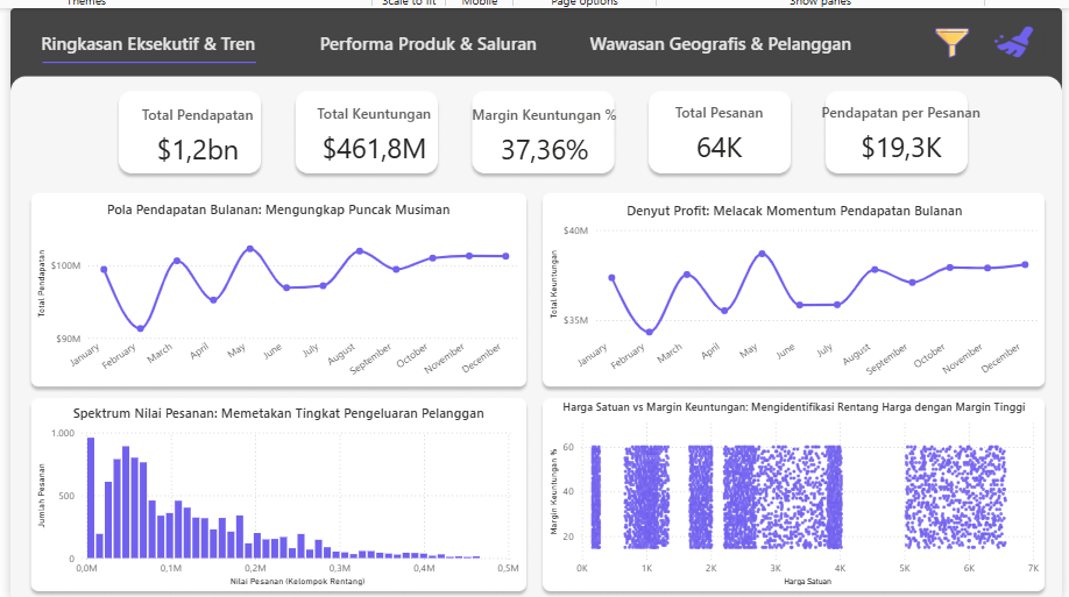

The page's visual inventory and layout, read from the dashboard file:
{"tool":"powerbi","page":{"name":"Ringkasan Esekutif & Tren","canvas":[1280,720],"ordinal":0},"visuals":[{"type":"cardVisual","fields":{"Data":["Measures_.Total Revenue"]},"box":[141.4,101.4,172.9,104.3],"z":0},{"type":"cardVisual","fields":{"Data":["Measures_.Total Profit"]},"box":[350,100,185.7,104.3],"z":1000},{"type":"cardVisual","fields":{"Data":["Measures_.Profit Margin %"]},"box":[541.4,101.4,217.1,104.3],"z":2000},{"type":"cardVisual","fields":{"Data":["Measures_.Total Orders"]},"box":[787.2,100,152.6,103.8],"z":3000},{"type":"cardVisual","fields":{"Data":["Measures_.Revenue per order"]},"box":[953.9,100.6,260.8,102],"z":4000},{"type":"lineChart","title":"Pola Pendapatan Bulanan: Mengungkap Puncak Musiman","fields":{"Category":["Sales_data.order_month_name"],"Y":["Measures_.Total Revenue"]},"box":[26.9,233.3,598.7,235.9],"z":5000},{"type":"lineChart","title":"Denyut Profit: Melacak Momentum Pendapatan Bulanan","fields":{"Category":["Sales_data.order_month_name"],"Y":["Measures_.Total Profit"]},"box":[650,234.6,607.7,234.6],"z":6000},{"type":"scatterChart","title":"Harga Satuan vs Margin Keuntungan: Mengidentifikasi Rentang Harga dengan Margin Tinggi","fields":{"X":["Sales_data.unit_price"],"Y":["Sales_data.profit_margin_pct"]},"box":[650,476.9,606.4,232.1],"z":7000},{"type":"columnChart","title":"Spektrum Nilai Pesanan: Memetakan Tingkat Pengeluaran Pelanggan","fields":{"Category":["Order_Value_Distribution.OrderValue (bins)"],"Y":["CountNonNull(Order_Value_Distribution.order_number)"]},"box":[26.9,482.1,598.7,226.9],"z":8000},{"type":"actionButton","box":[337.2,14.1,342.3,55.1],"z":10000},{"type":"actionButton","box":[9,14.1,317.9,55.1],"z":11000},{"type":"actionButton","box":[693.8,13.8,342.5,55],"z":12000},{"type":"actionButton","box":[1188,14,70,55],"z":14000},{"type":"actionButton","box":[1120,21,53,42],"z":14500}]}

Visuals, with their boxes on the page's 1280x720 design canvas (x1, y1, x2, y2). These are canvas units, not pixel positions in the 1069x597 screenshot, which may show the page scaled, cropped or inside an application window:
cardVisual - Measures_.Total Revenue: l=141, t=101, r=314, b=206
cardVisual - Measures_.Total Profit: l=350, t=100, r=536, b=204
cardVisual - Measures_.Profit Margin %: l=541, t=101, r=758, b=206
cardVisual - Measures_.Total Orders: l=787, t=100, r=940, b=204
cardVisual - Measures_.Revenue per order: l=954, t=101, r=1215, b=203
"Pola Pendapatan Bulanan: Mengungkap Puncak Musiman" lineChart: l=27, t=233, r=626, b=469
"Denyut Profit: Melacak Momentum Pendapatan Bulanan" lineChart: l=650, t=235, r=1258, b=469
"Harga Satuan vs Margin Keuntungan: Mengidentifikasi Rentang Harga dengan Margin Tinggi" scatterChart: l=650, t=477, r=1256, b=709
"Spektrum Nilai Pesanan: Memetakan Tingkat Pengeluaran Pelanggan" columnChart: l=27, t=482, r=626, b=709
actionButton: l=337, t=14, r=680, b=69
actionButton: l=9, t=14, r=327, b=69
actionButton: l=694, t=14, r=1036, b=69
actionButton: l=1188, t=14, r=1258, b=69
actionButton: l=1120, t=21, r=1173, b=63
